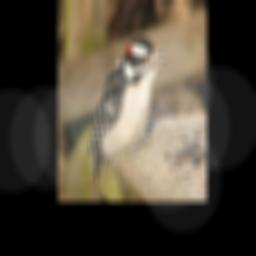Woodpecker: (84, 37, 171, 178)
